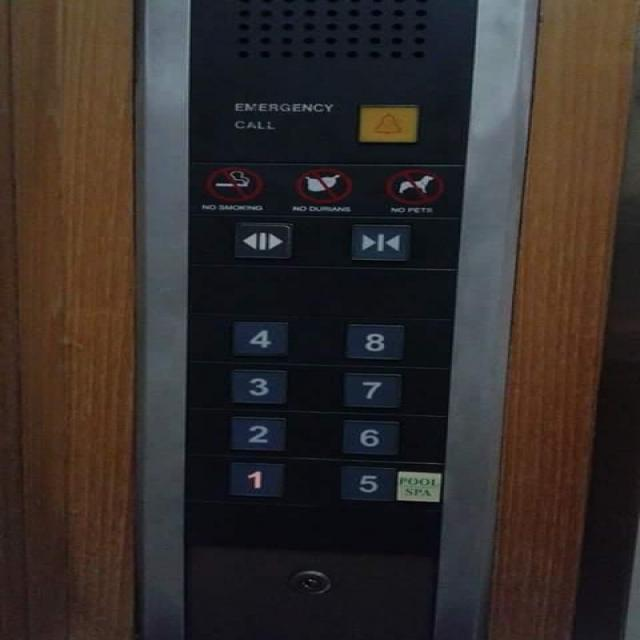1: (225, 460, 284, 498)
2: (225, 415, 287, 452)
3: (226, 368, 286, 404)
4: (228, 319, 287, 356)
5: (337, 464, 396, 501)
6: (337, 418, 400, 455)
7: (337, 370, 403, 408)
8: (343, 323, 404, 362)
alarm: (355, 103, 420, 144)
close: (348, 222, 411, 262)
keyhole: (286, 569, 330, 594)
open: (230, 221, 294, 258)
